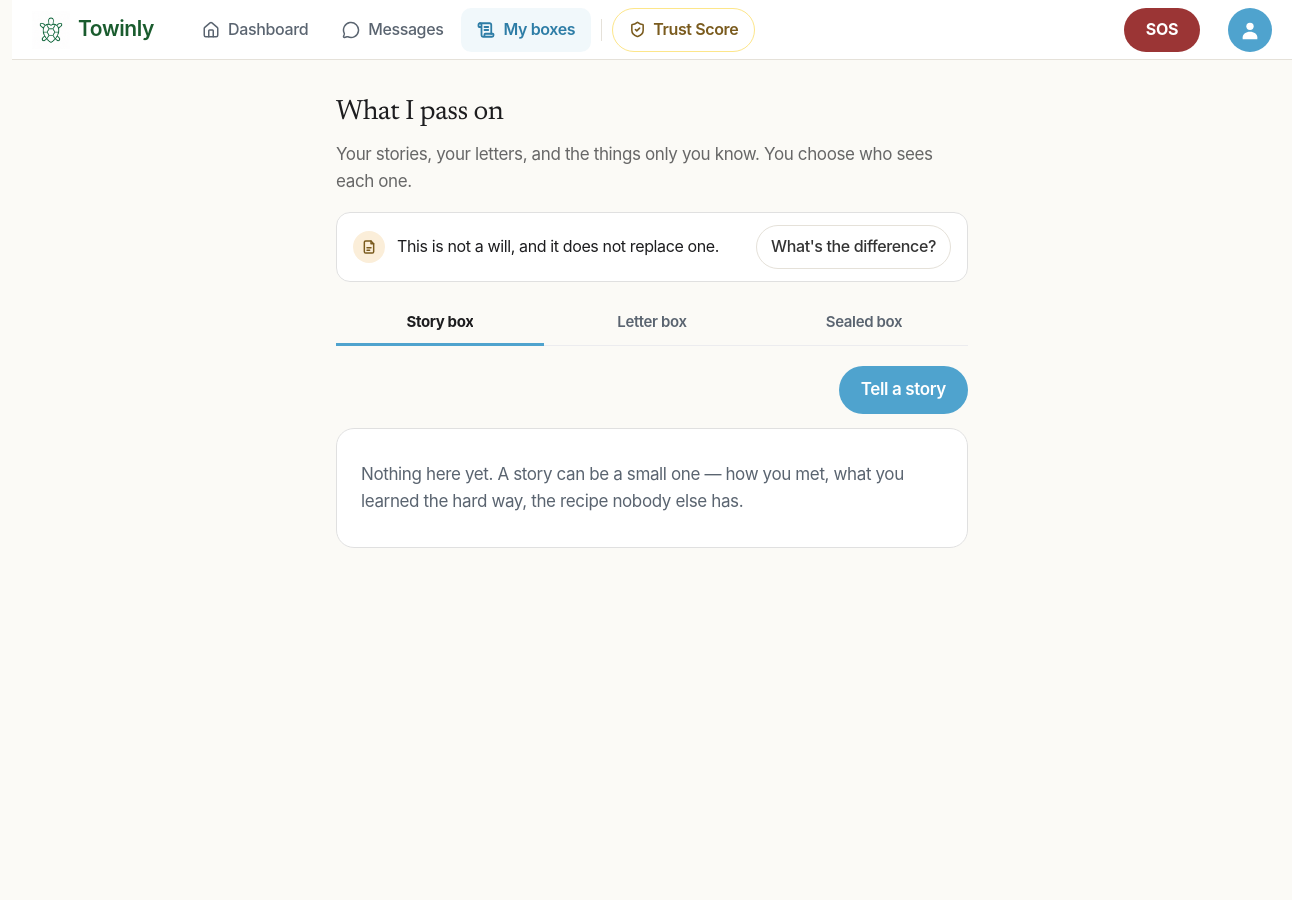
Test: What I pass on — Story box › replaces the start button with the form, so only one button is filled
What coordinates should you click on to do the following:
click the button "Tell a story"
I would click on:
 (903, 390)
Its box is [839,366,968,414].
(page scrolled)
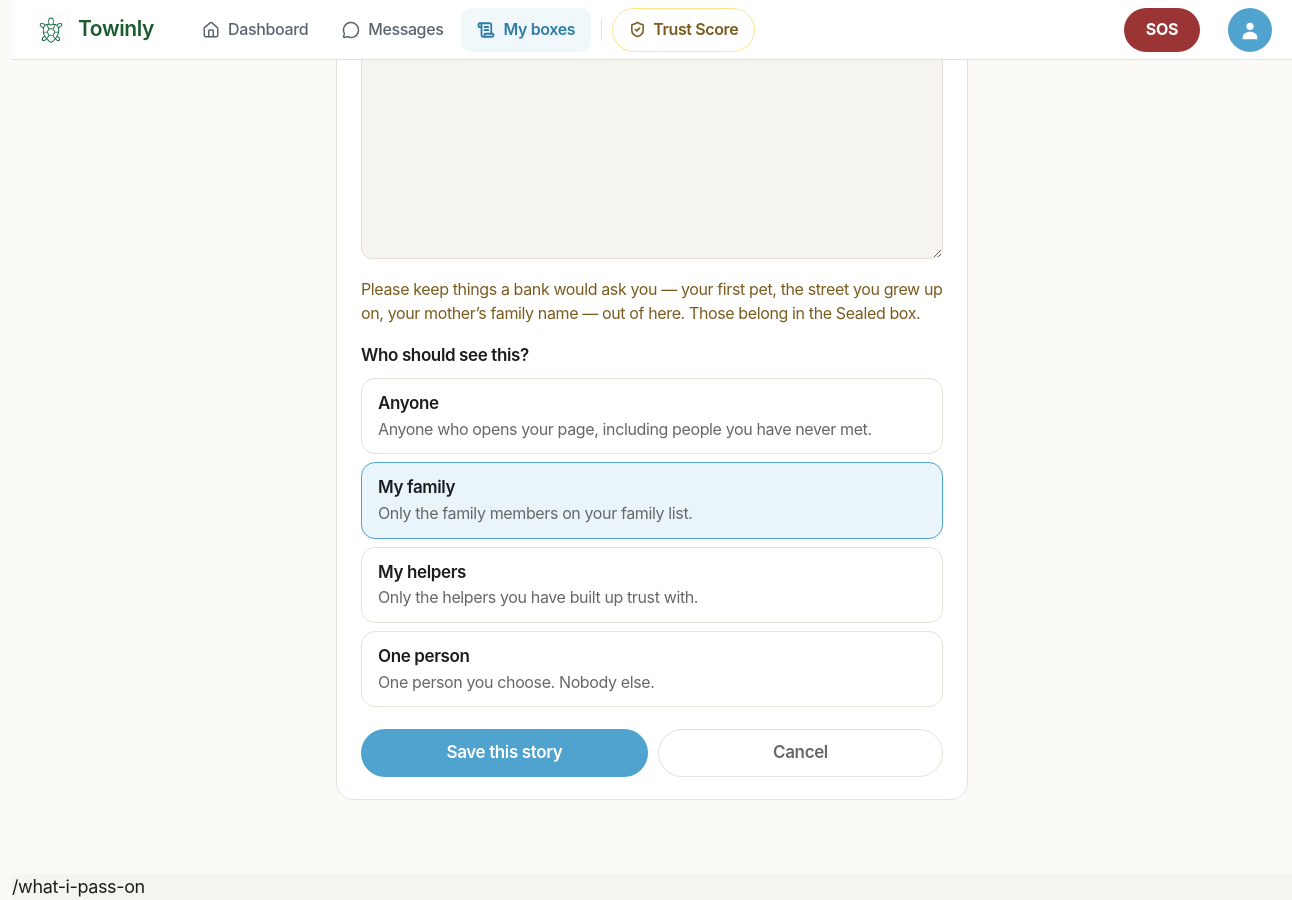
Now the button "Tell a story" is gone
Now the text box labelled "Tell it" is shown, box [361,3,943,259]
Now the button "Save this story" is shown, box [361,729,648,777]
